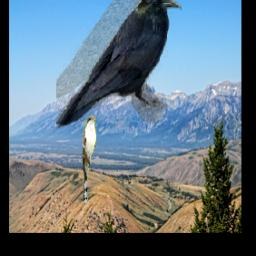Crow: (56, 0, 182, 130)
Cuckoo: (83, 115, 97, 204)
